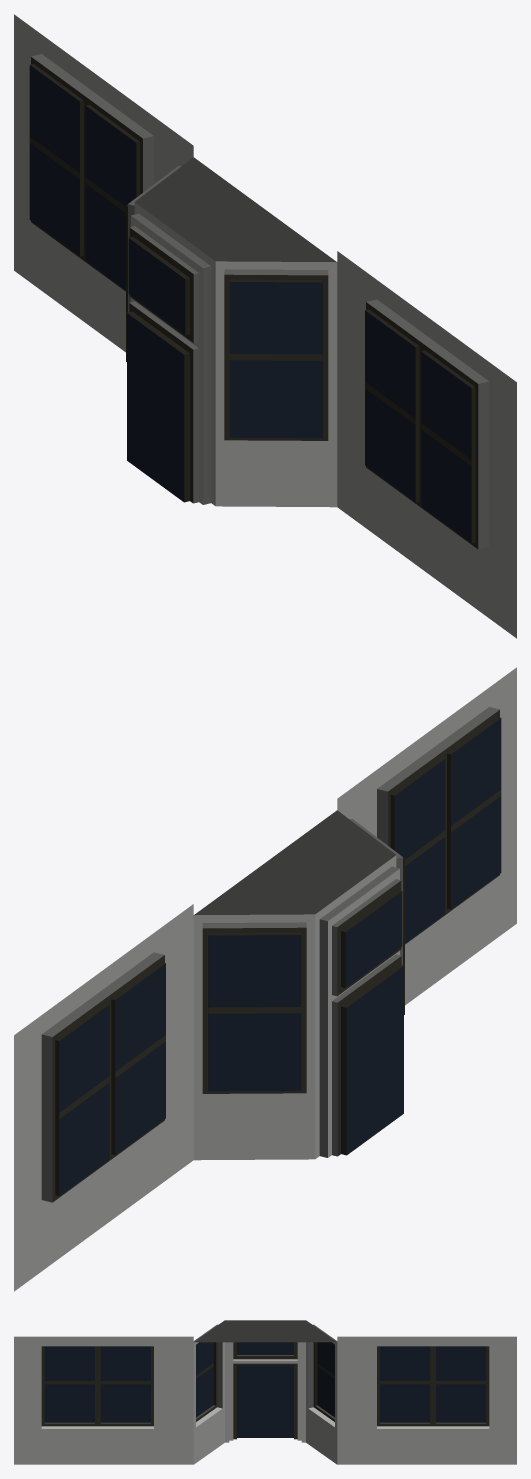
The model's file is white_marble_building_ground_wall.fbx.
3 views of the same model, one above another, from view 1: azimuth 30°, elevation 25°; view 2: azimuth 150°, elevation 25°; view 3: azimuth 270°, elevation 25° (orthographic). The views are drawn at different scales.
Visible parts, largest first — view 1: white_marble_building_ground_wall; view 2: white_marble_building_ground_wall; view 3: white_marble_building_ground_wall.
Boxes of the visible parts, box(x1,y1,x2,y2) form: white_marble_building_ground_wall: box(14, 14, 516, 638); white_marble_building_ground_wall: box(14, 667, 516, 1291); white_marble_building_ground_wall: box(14, 1320, 516, 1464).
Bounding box in the file's own units: 202 × 450 × 1600.
